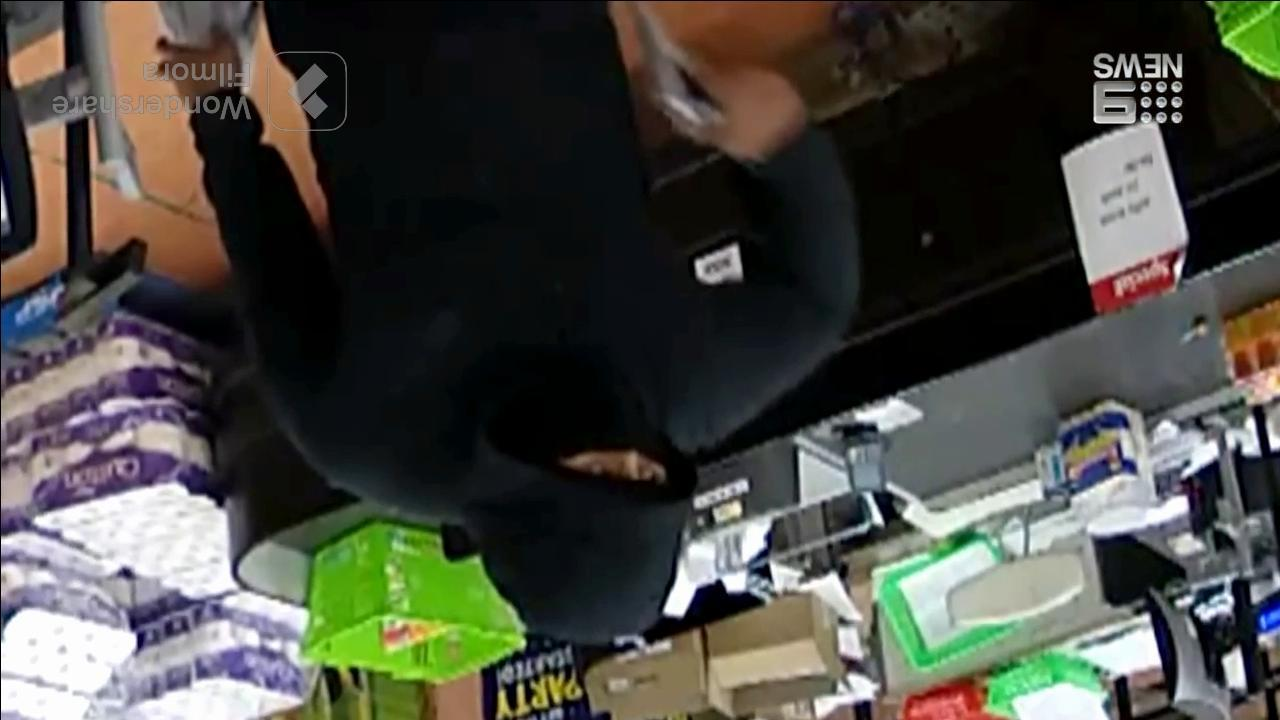gun: (620, 0, 744, 153)
